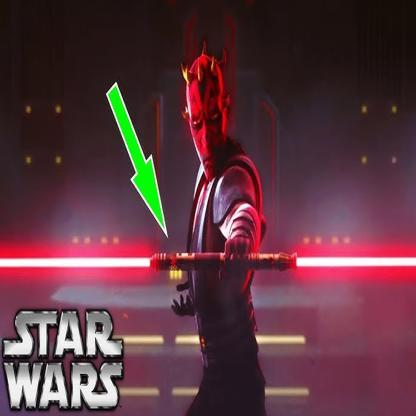sith_lightsaber: (1, 251, 415, 277)
